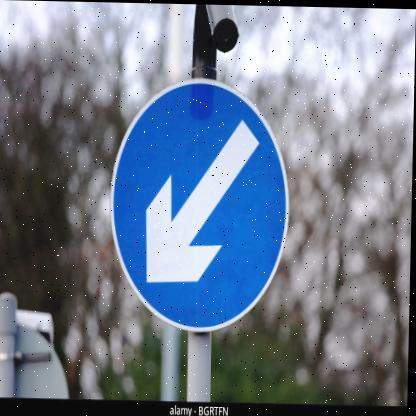Keep left: (114, 80, 293, 329)
